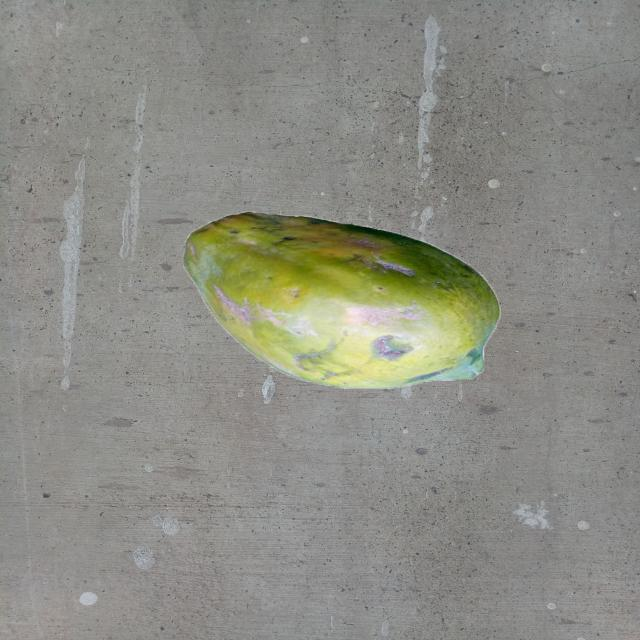Pepaya rippen: (168, 199, 509, 395)
